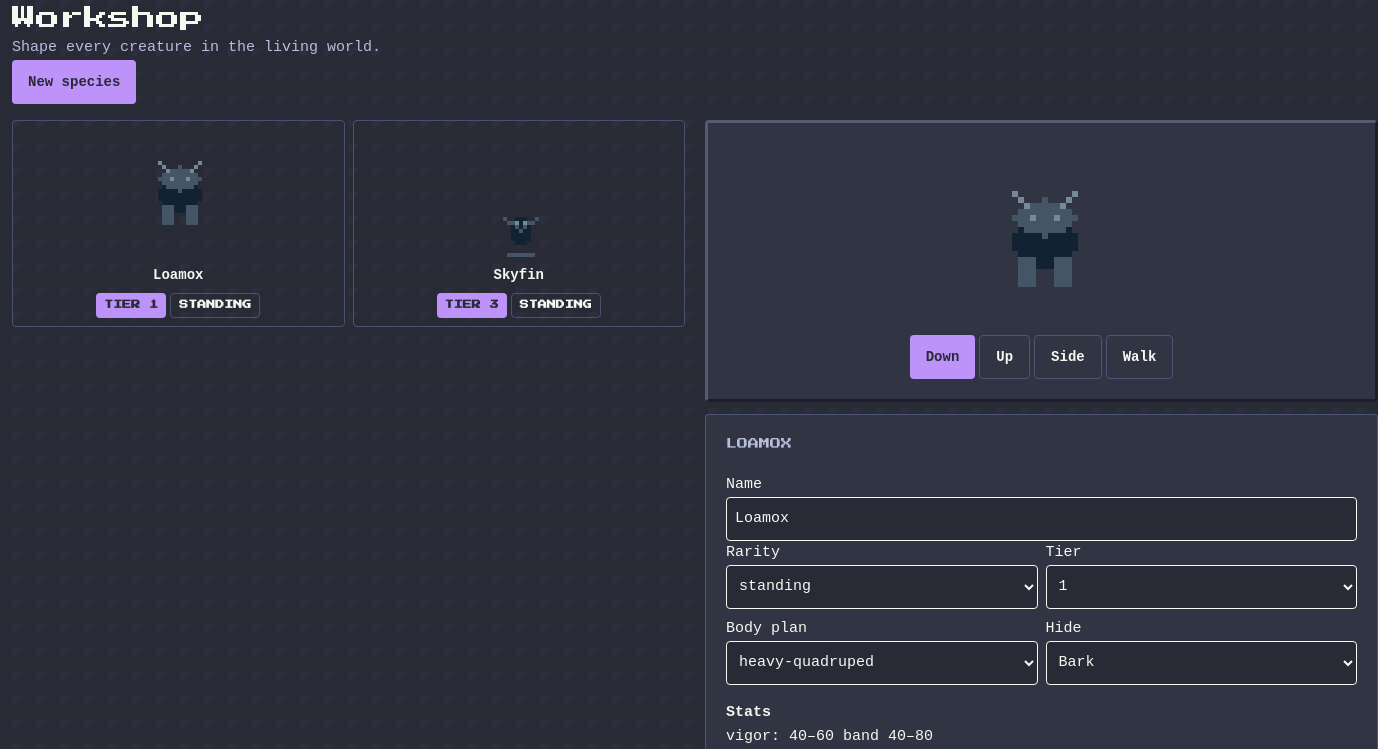
Workshop › switches the detail to another species when its card is pressed
Click the button "Skyfin Tier 3 standing" at (519, 223), box top-left (352, 120), bottom-right (685, 327)
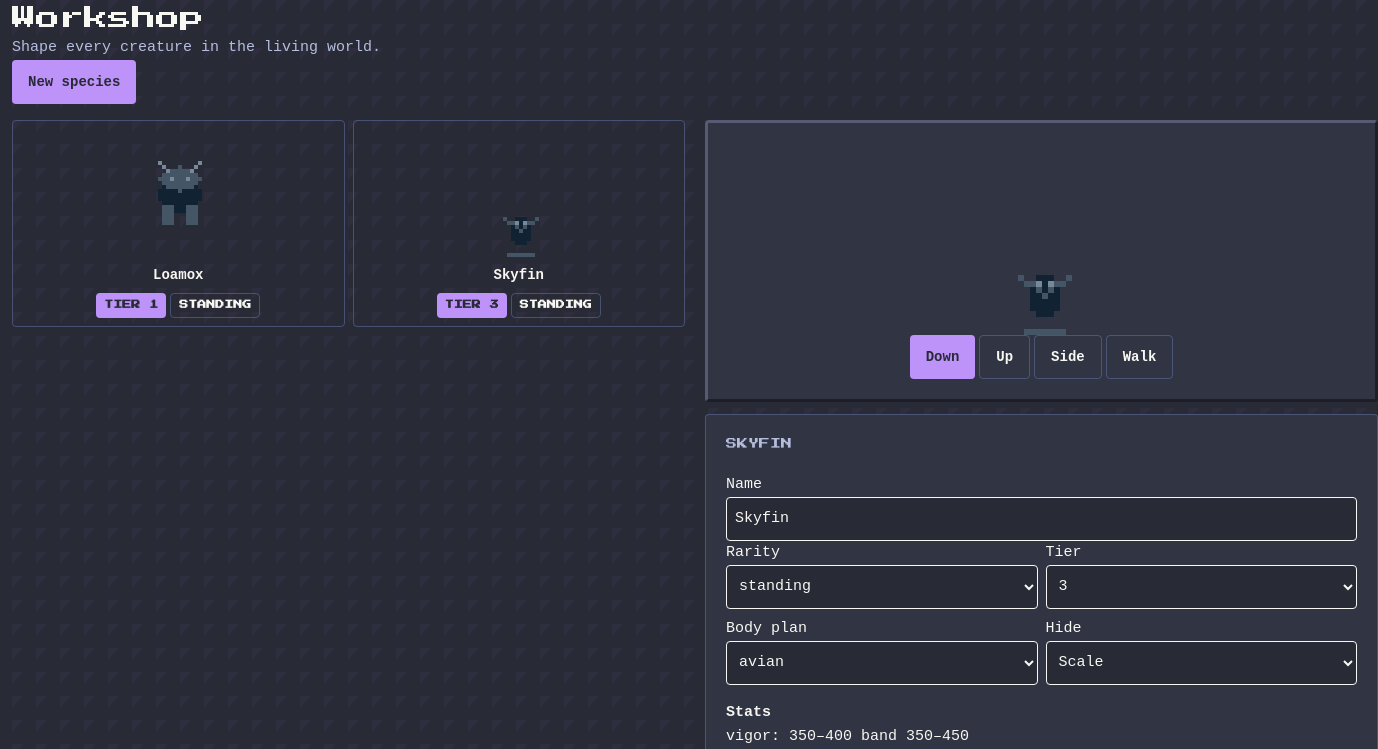
Result: the heading "Skyfin" is shown at top-left (726, 438), bottom-right (792, 449)
